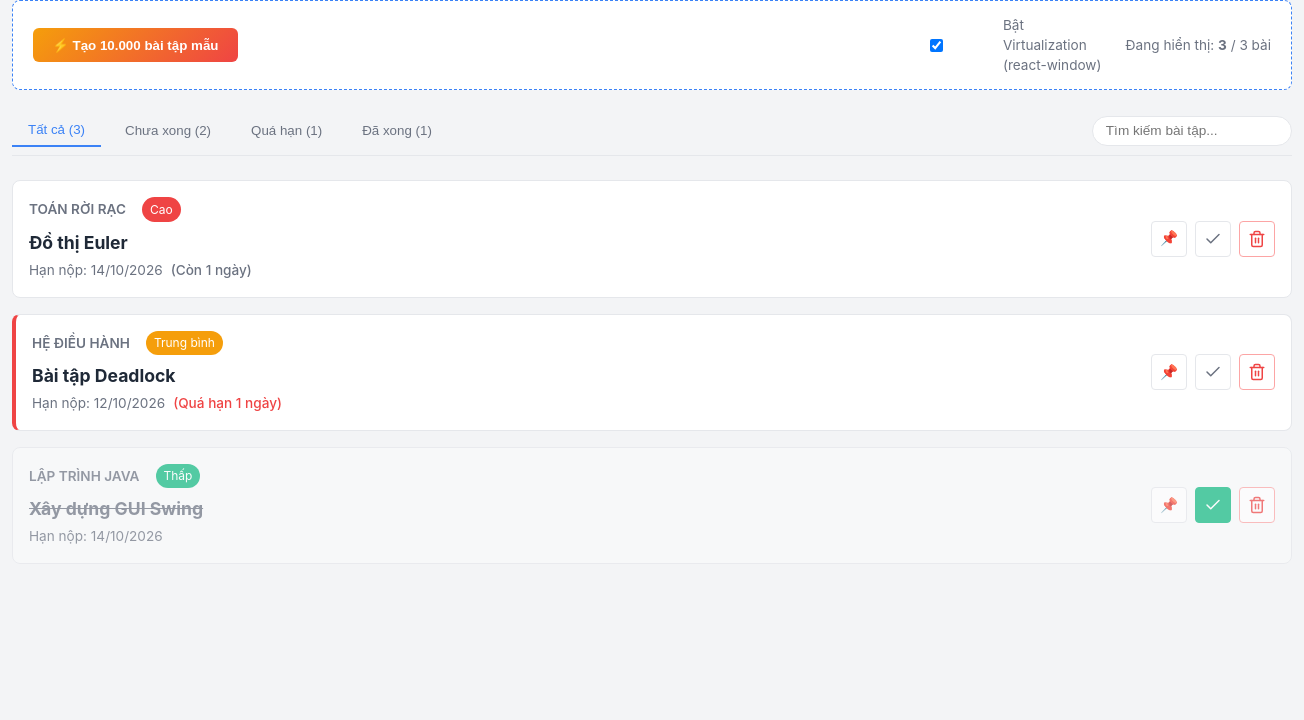
Test case: Component Tests: DeadlineList Tabs & Search filtering › 2. Lọc bài tập khi gõ vào ô tìm kiếm với useDebounce
The image size is (1304, 720).
// Gõ tìm kiếm 'Java'
In the field with placeholder "Tìm kiếm bài tập...": [1192, 131] box [1092,116,1292,146], type "Java"
Wait 300 ms
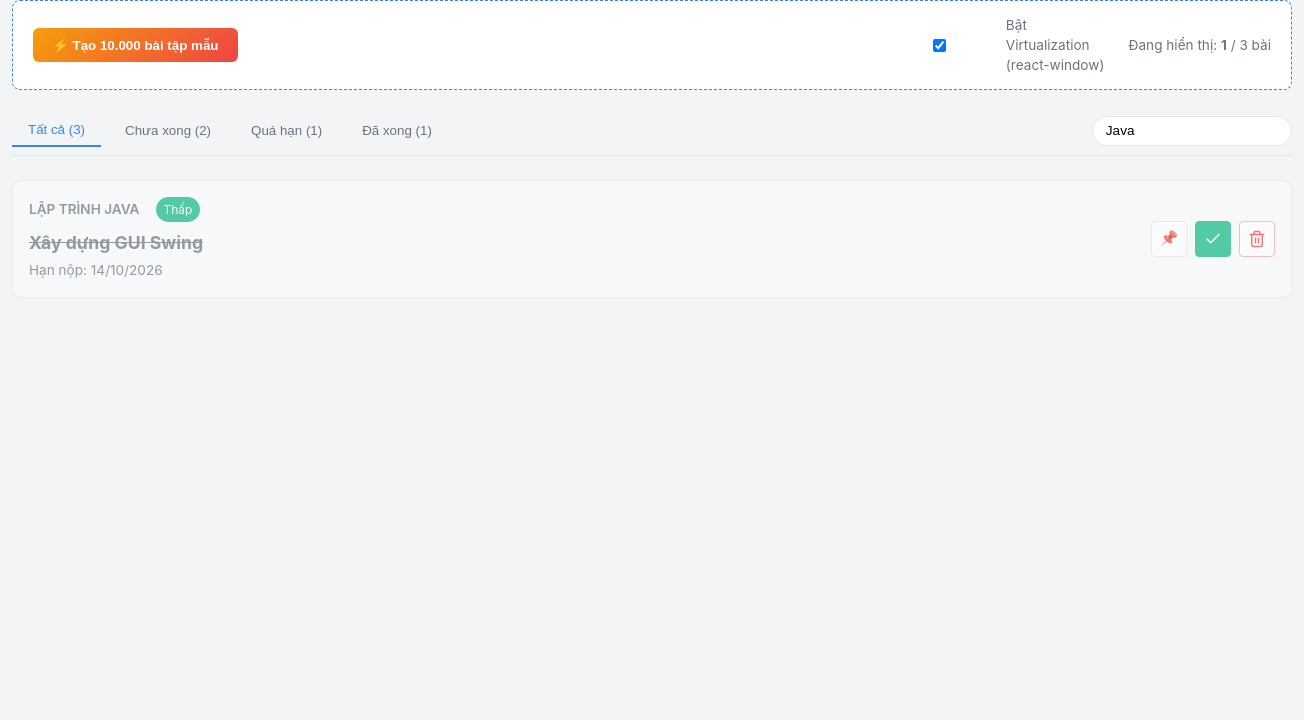
expect the heading "Xây dựng GUI Swing" is shown: met, box [29,232,203,253]
expect the heading "Đồ thị Euler" is gone: met
